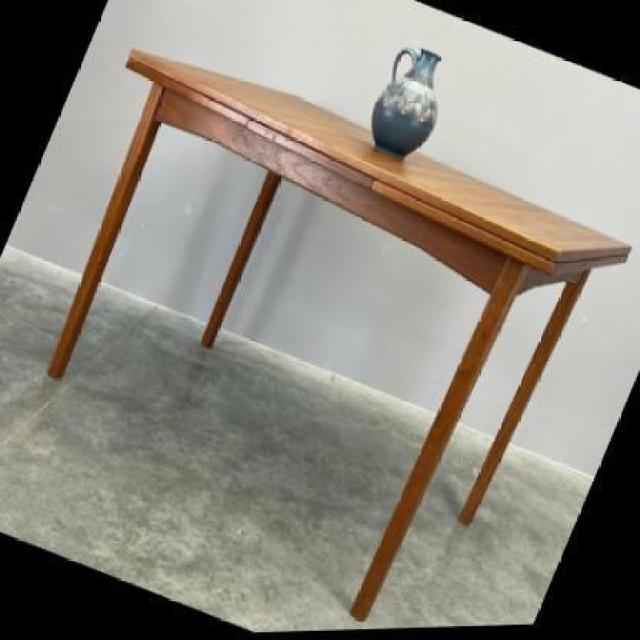tables: (45, 46, 632, 620)
